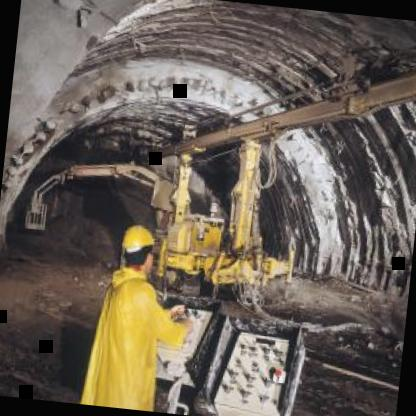helmet: (117, 220, 159, 275)
